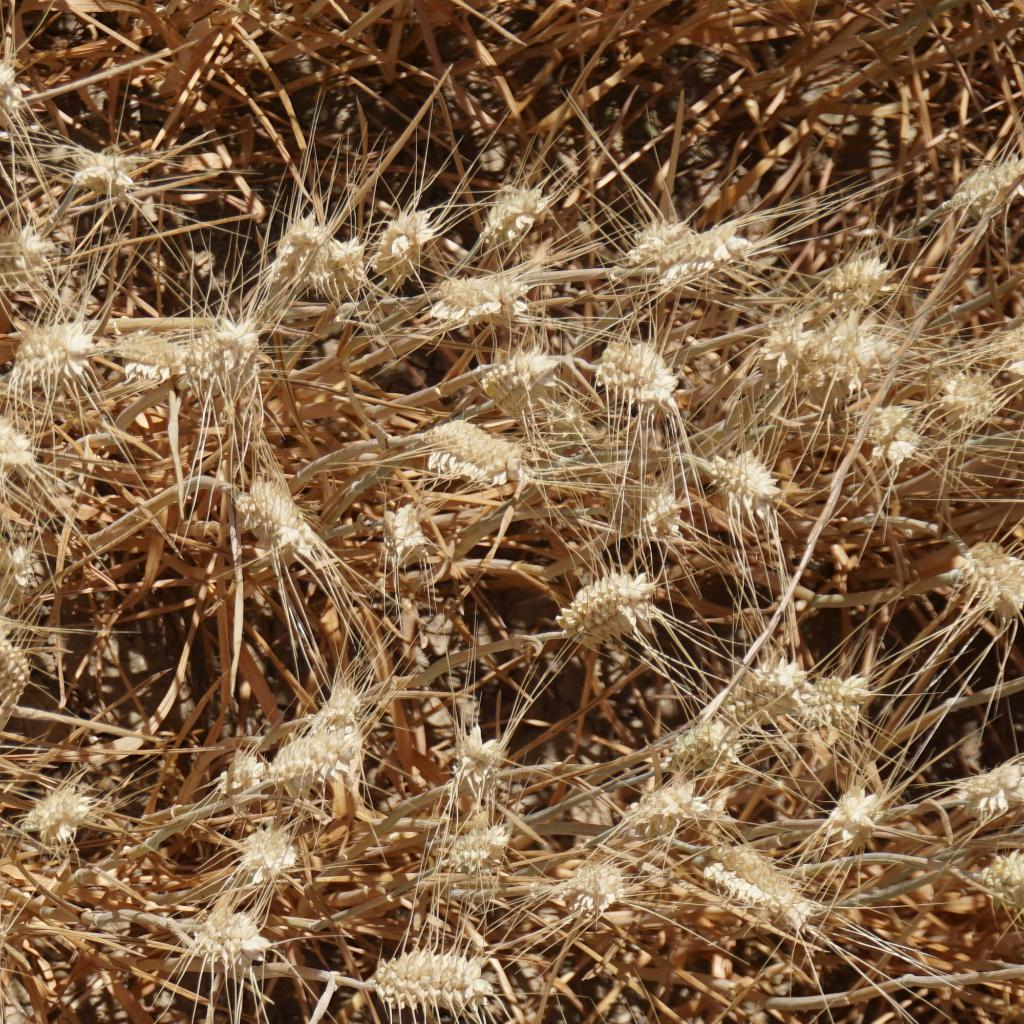0-0: (338, 927, 494, 1024), (236, 695, 360, 803), (9, 761, 106, 866), (561, 551, 661, 649), (939, 509, 1024, 623), (415, 249, 525, 330), (190, 309, 285, 397), (710, 848, 803, 937), (419, 413, 518, 492), (9, 295, 92, 386), (236, 482, 326, 563), (612, 206, 707, 281), (179, 898, 269, 972), (2, 204, 78, 291), (551, 848, 630, 931), (594, 323, 677, 401), (452, 712, 526, 799), (736, 644, 830, 712), (480, 336, 569, 405), (468, 179, 539, 263), (376, 494, 449, 574), (799, 657, 876, 732), (707, 433, 787, 505), (626, 770, 695, 852), (941, 352, 1010, 433), (835, 246, 915, 314), (224, 813, 297, 886), (768, 307, 838, 381), (267, 206, 316, 311), (635, 476, 709, 545), (364, 198, 425, 281), (427, 815, 514, 872), (55, 132, 128, 195), (953, 752, 1024, 814), (323, 228, 377, 309), (864, 386, 921, 460), (0, 602, 31, 714), (0, 415, 53, 480), (679, 707, 734, 763), (978, 838, 1024, 903), (850, 311, 896, 372), (823, 781, 872, 838), (0, 53, 33, 134), (0, 891, 15, 976)
